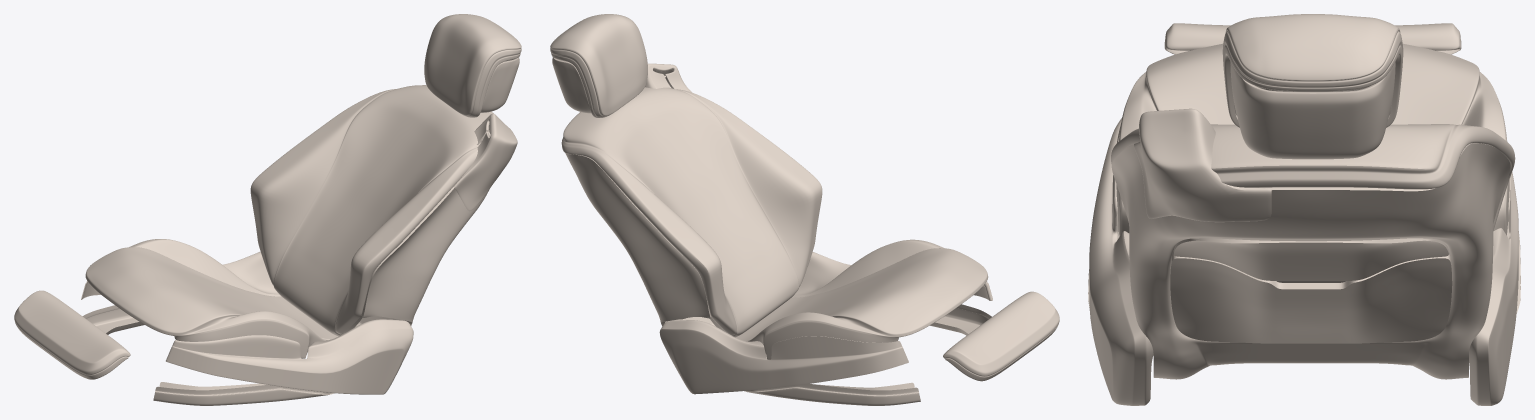
File: Frontsitz_FS_45.fbx
3 renders of one model, left to right at view 1: azimuth 30°, elevation 25°; view 2: azimuth 150°, elevation 25°; view 3: azimuth 270°, elevation 25°, orthographic. The views are drawn at different scales.
Visible parts, largest first — view 1: Frontsitze_45°.001; view 2: Frontsitze_45°.001; view 3: Frontsitze_45°.001.
Boxes of the visible parts, x1,y1,x2,y2 form: Frontsitze_45°.001: (14,14,521,405); Frontsitze_45°.001: (550,14,1059,405); Frontsitze_45°.001: (1088,14,1520,405).
Size of the model in its own units: 132 by 80.69 by 61.51.
